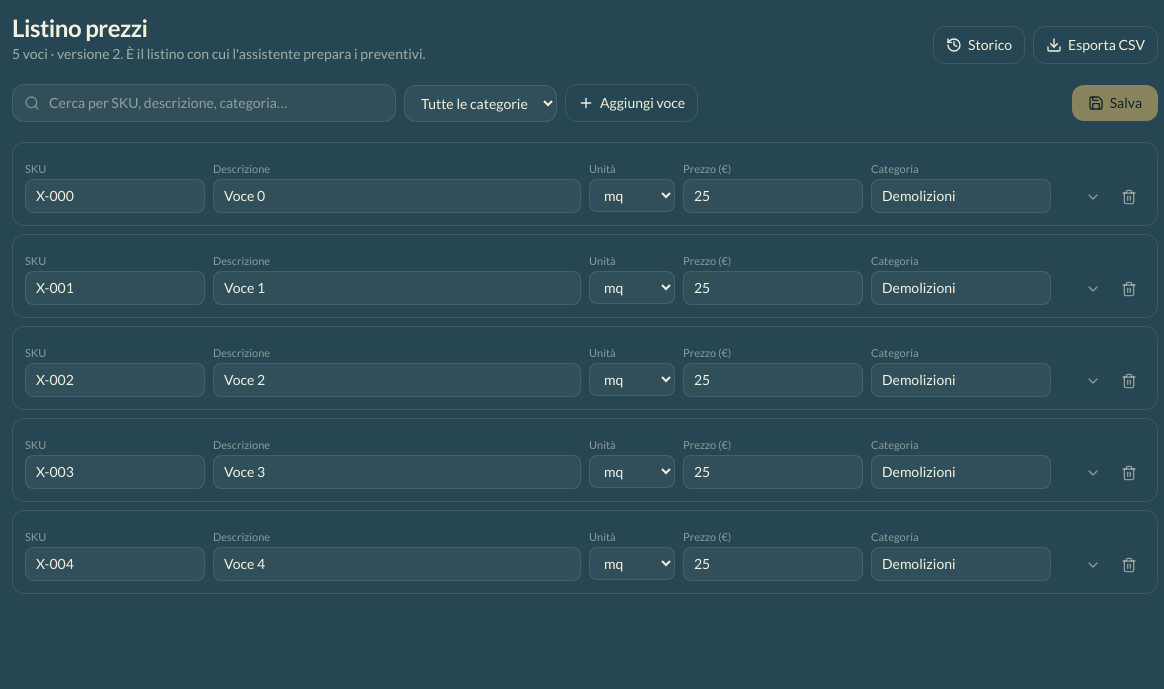
PriceBookEditor › finding the line that blocks a save › opens the details when the problem is there, and hints at it while they are closed
The image size is (1164, 689).
Click the button named "Dettagli della voce X-002" at (1093,381), box [1077,365,1109,397]
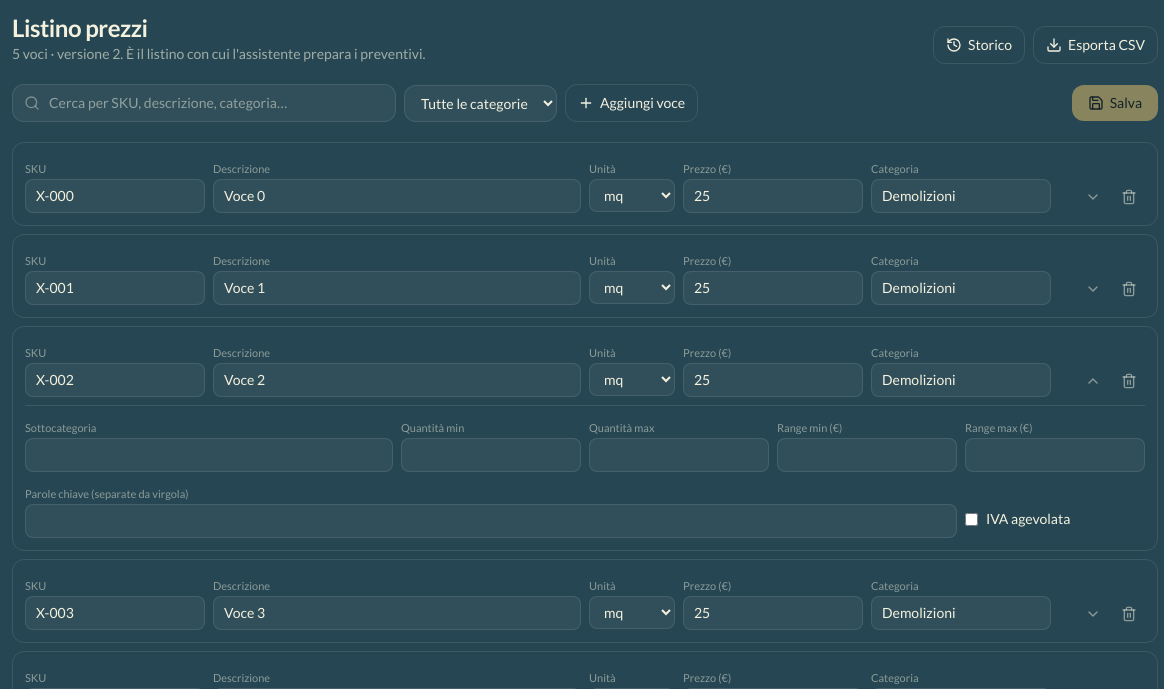
Type "-5" into the number field labelled "Quantità min" at (491,455), box [401,438,581,472]
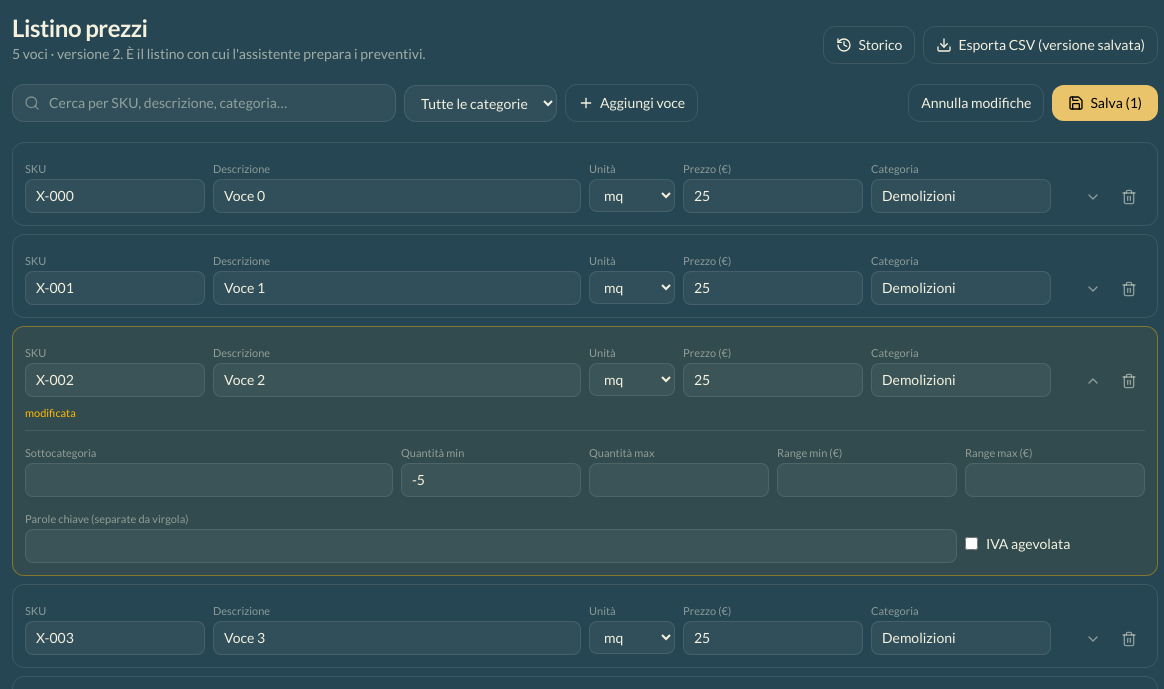
Click the button named "Dettagli della voce X-002" at (1093,381), box [1077,365,1109,397]
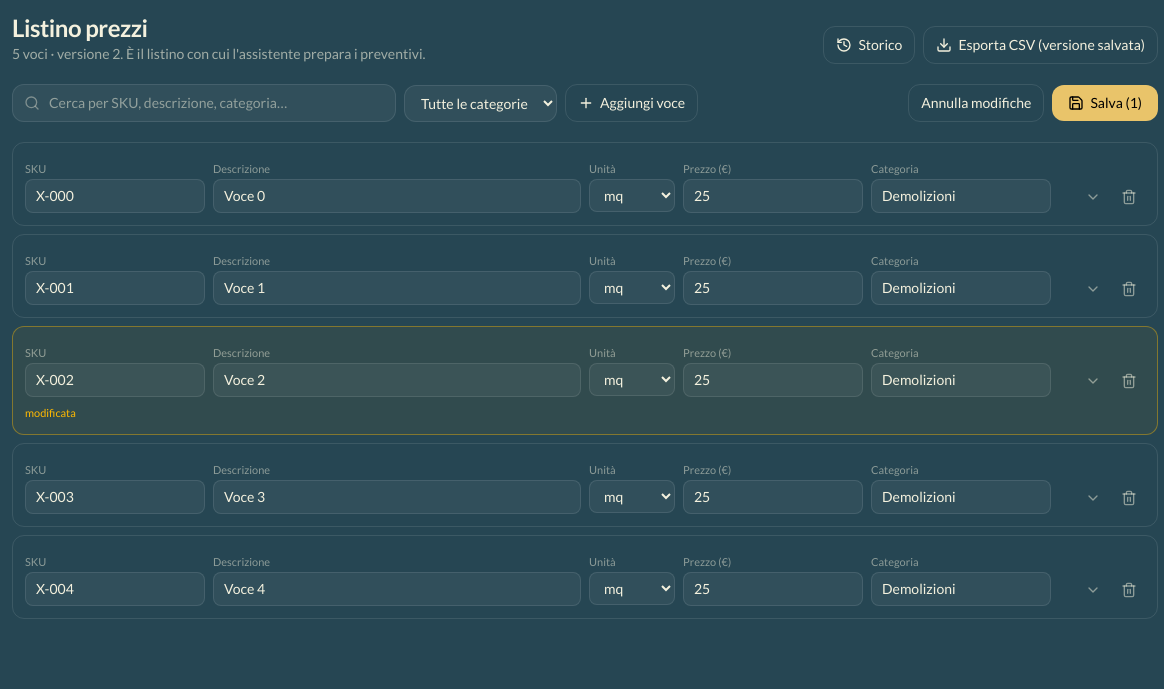
Click the button with test id "pb-save" at (1105,103), box [1052,85,1158,121]
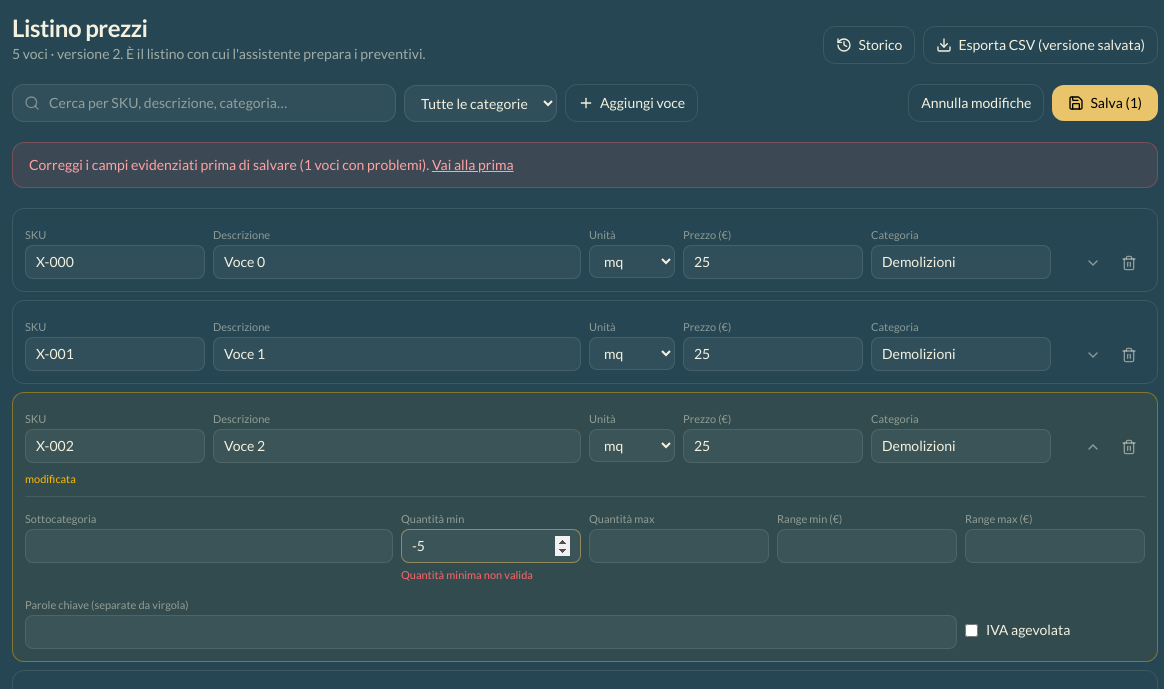
Check: the element with test id "pb-details" is shown, box [25,496,1145,649]
Check: the text "Quantità minima non valida" is shown, box [401,568,533,580]
